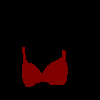reggiseno: (22, 46, 68, 87)
